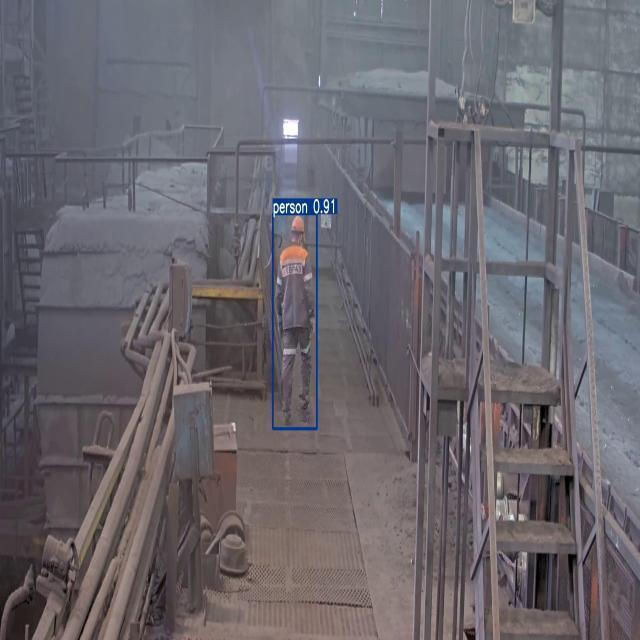safety_helmet: (273, 214, 317, 429)
